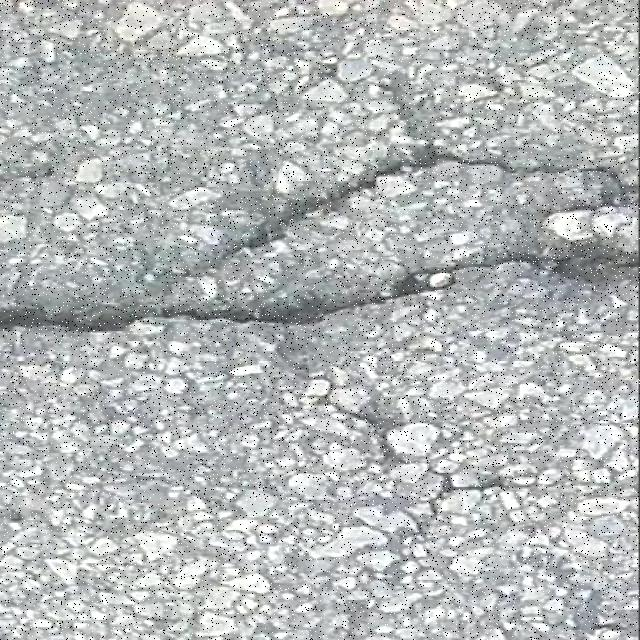Crack: (0, 242, 639, 332), (209, 145, 639, 270), (315, 375, 521, 515)
